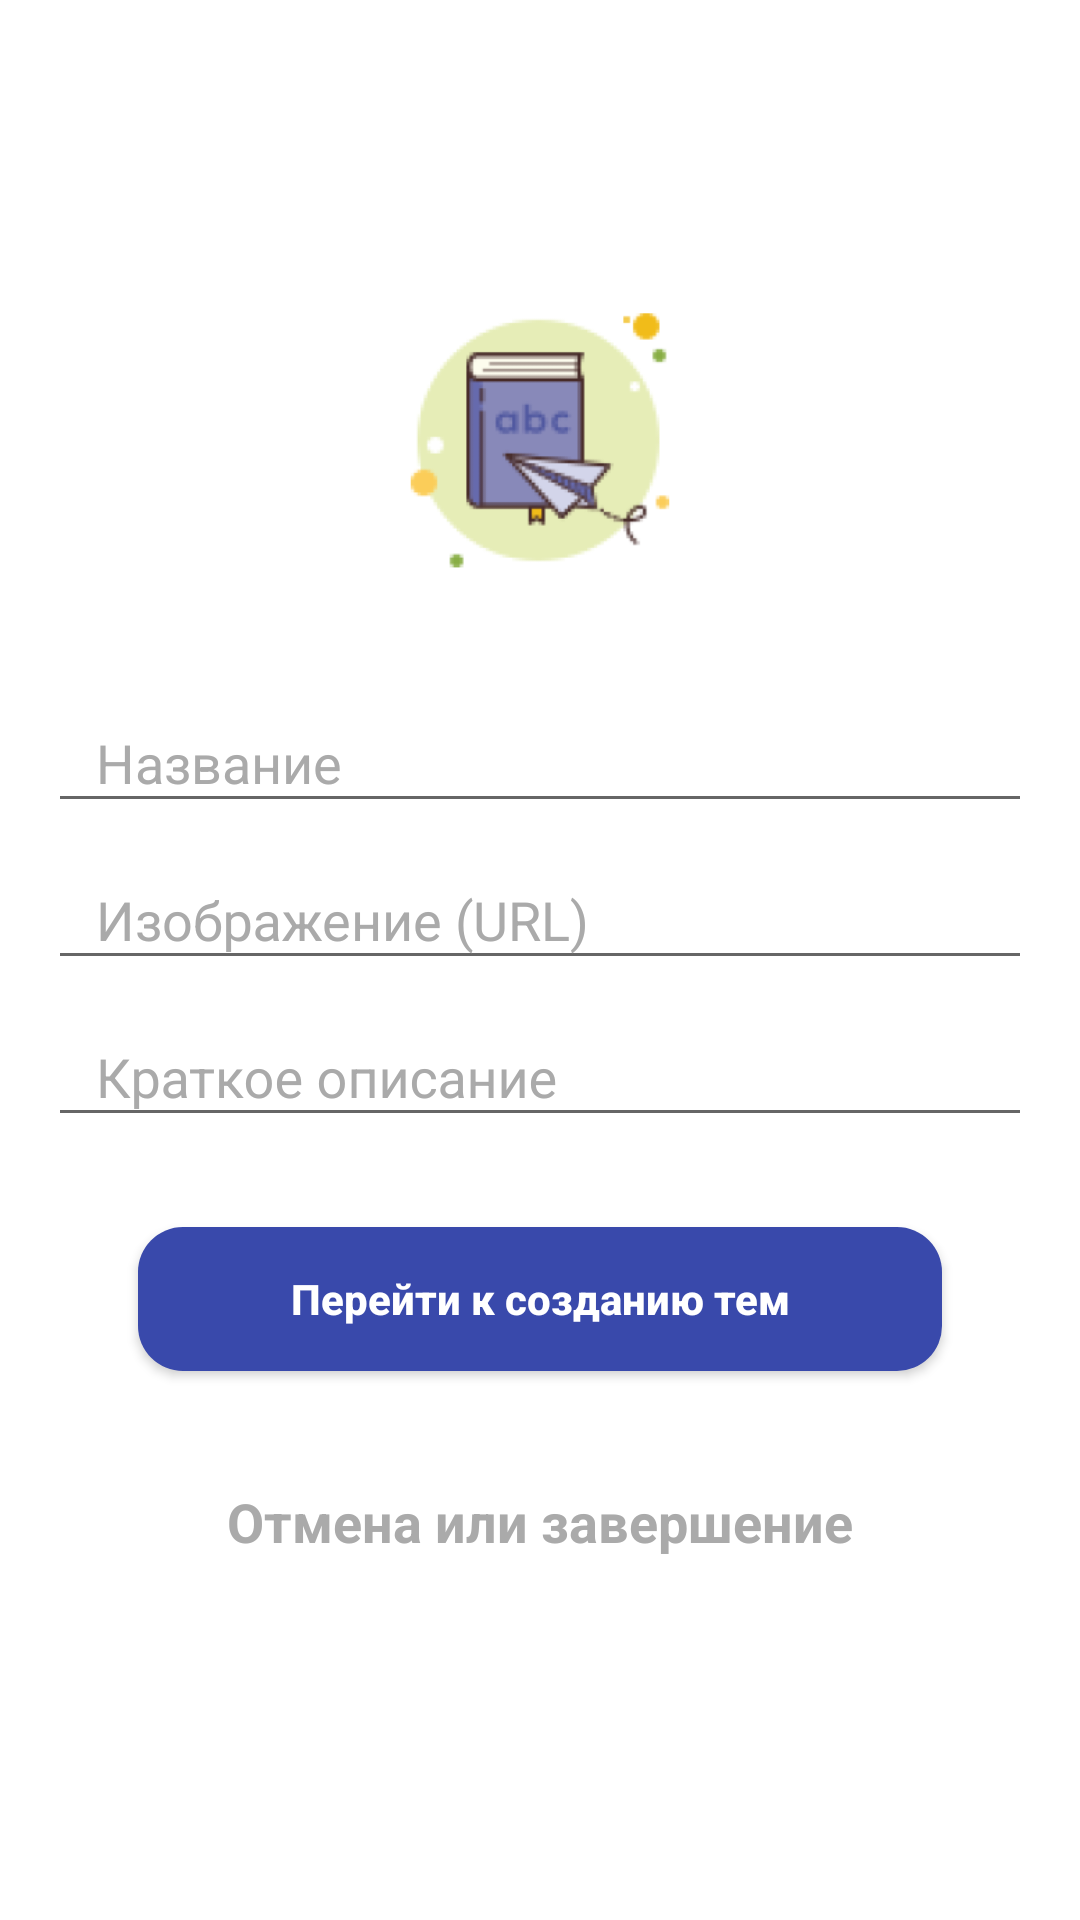

Named icons in this screenshot (1080*1920) and their bounding boxes, box=[x1, y1, x2, y2]:
book: box=[410, 313, 670, 568]
